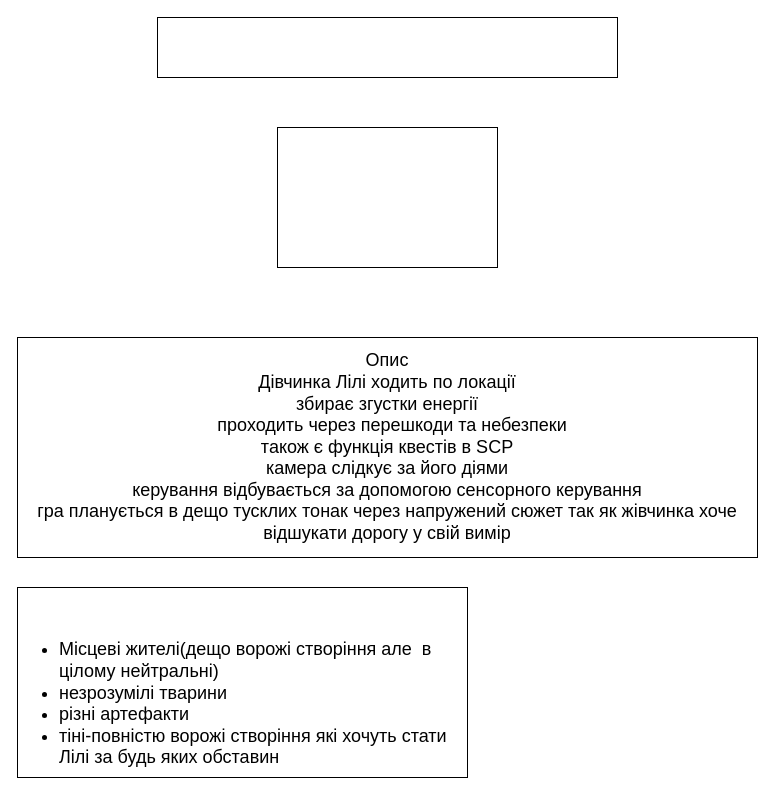
Image size: 775x804. Some labels were removed from this diagram. Each missing label, with the centre of its shape:
"Lili History" belongs at (387,47).
"Дизайн документ" belongs at (387,197).
